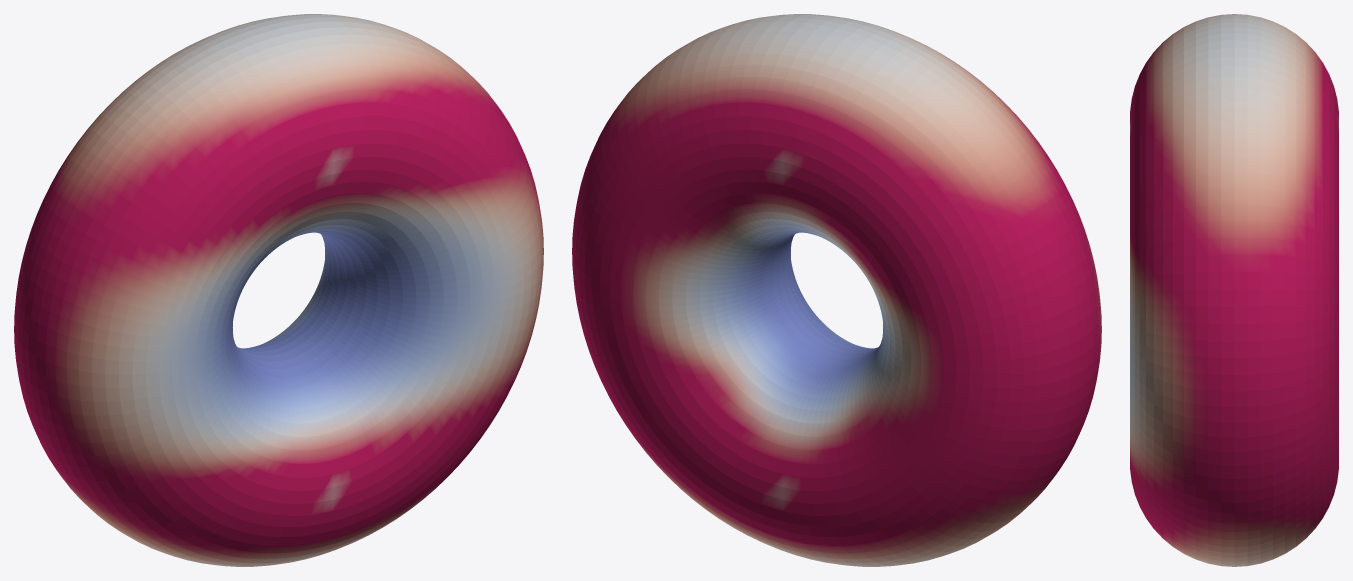
The picture shows the model from 3 angles, left to right: view 1: azimuth 30°, elevation 25°; view 2: azimuth 150°, elevation 25°; view 3: azimuth 270°, elevation 25°; orthographic projection. The views are drawn at different scales.
Parts seen in each view (by area): view 1: world; view 2: world; view 3: world.
Part boxes in pixels (x1,y1,x2,y2): world: [14, 14, 543, 566]; world: [572, 14, 1101, 566]; world: [1130, 14, 1338, 566].
Size of the model in its own units: 23.6 by 23.6 by 8.92.
